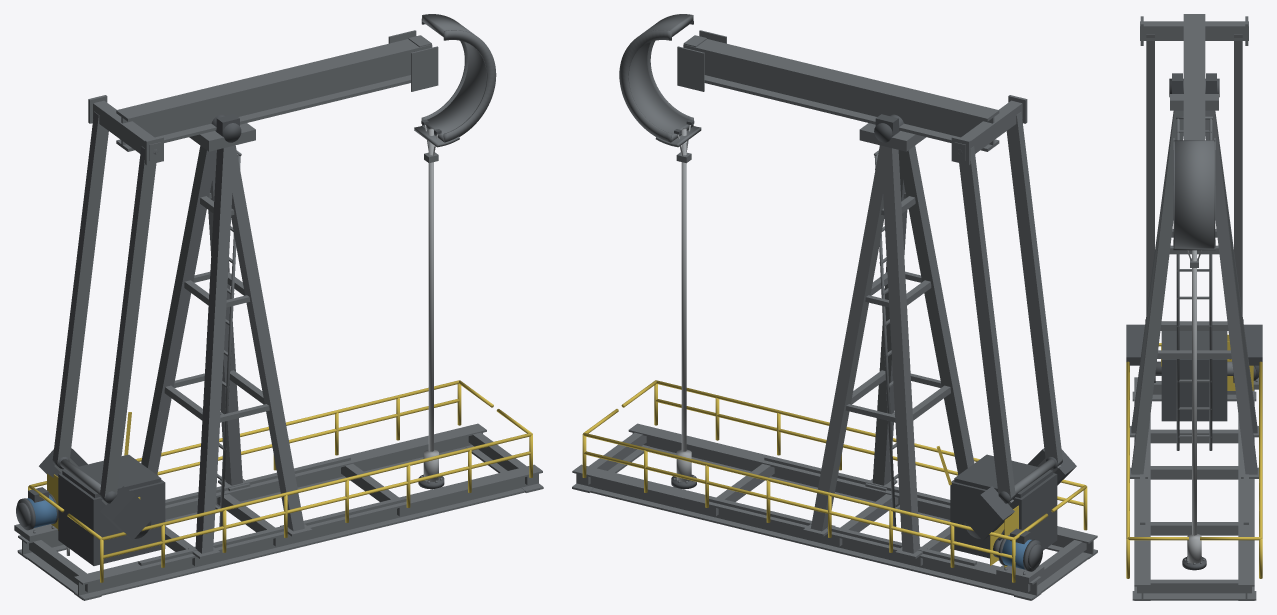
Rendered from pumpjack_lod0.glb.
The picture shows the model from 3 angles, left to right: view 1: azimuth 30°, elevation 25°; view 2: azimuth 150°, elevation 25°; view 3: azimuth 270°, elevation 25°; orthographic projection. The views are drawn at different scales.
Parts seen in each view (by area): view 1: pq_static, pq_beam, pq_pitman_r, pq_pitman_l, pq_crank_l; view 2: pq_static, pq_beam, pq_pitman_r, pq_pitman_l, pq_crank_r; view 3: pq_static, pq_beam, pq_pitman_l, pq_pitman_r, pq_crank_l, pq_crank_r.
Boxes of the visible parts, x1,y1,x2,y2 form: pq_static: (14, 114, 543, 600); pq_beam: (88, 14, 496, 165); pq_pitman_r: (52, 111, 108, 469); pq_pitman_l: (100, 146, 156, 503); pq_crank_l: (101, 486, 155, 540); pq_static: (572, 114, 1097, 600); pq_beam: (619, 14, 1027, 165); pq_pitman_r: (959, 146, 1015, 503); pq_pitman_l: (1006, 112, 1062, 469); pq_crank_r: (960, 486, 1014, 540); pq_static: (1126, 73, 1262, 600); pq_beam: (1140, 14, 1248, 267); pq_pitman_l: (1145, 34, 1154, 321); pq_pitman_r: (1234, 34, 1243, 321); pq_crank_l: (1126, 324, 1155, 382); pq_crank_r: (1233, 324, 1262, 382).
Bounding box in the file's own units: 9 × 8.6 × 2.5.
